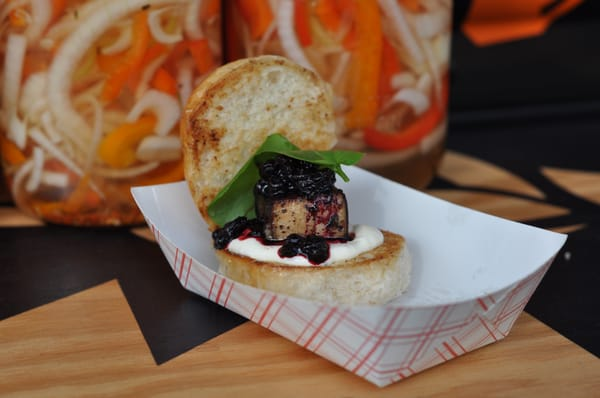soup: (179, 54, 411, 309), (180, 54, 369, 261)
